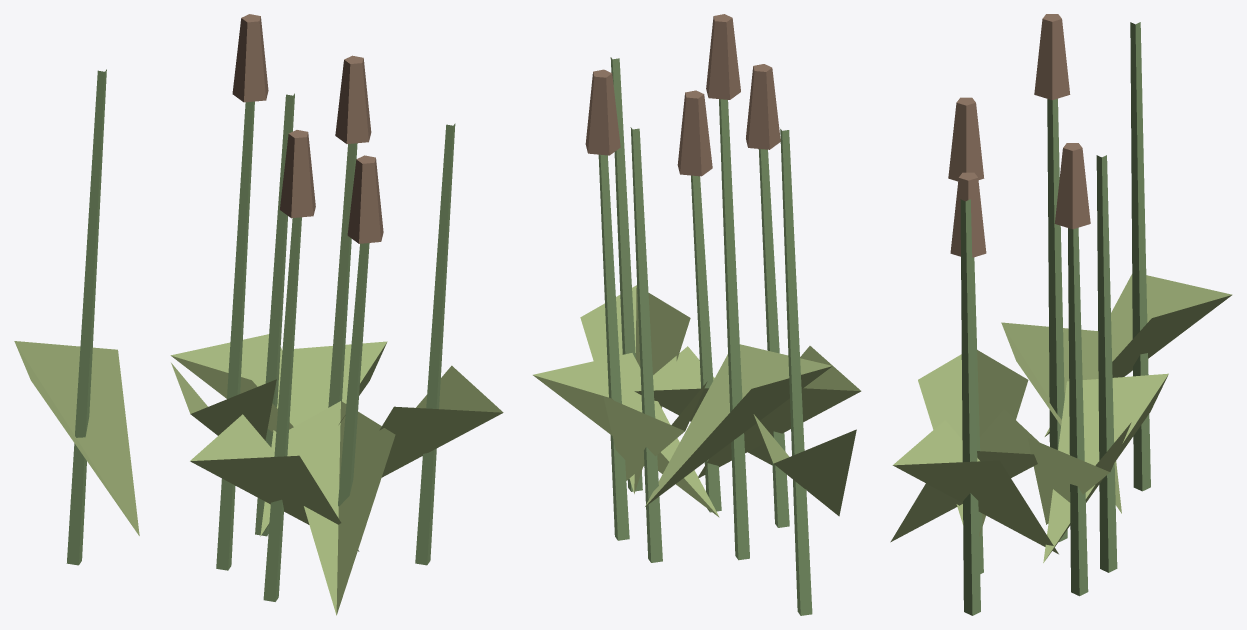
3 renders of one model, left to right at view 1: azimuth 30°, elevation 25°; view 2: azimuth 150°, elevation 25°; view 3: azimuth 270°, elevation 25°, orthographic. The views are drawn at different scales.
Visible parts, largest first — view 1: Body; view 2: Body; view 3: Body.
Boxes of the visible parts, x1,y1,x2,y2 form: Body: (14,14,503,615); Body: (533,14,861,615); Body: (890,14,1232,615).
Bounding box in the file's own units: 1.16 × 1.71 × 0.9964.
